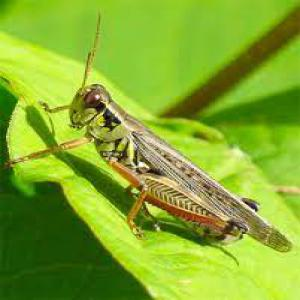locust: (55, 68, 300, 246)
